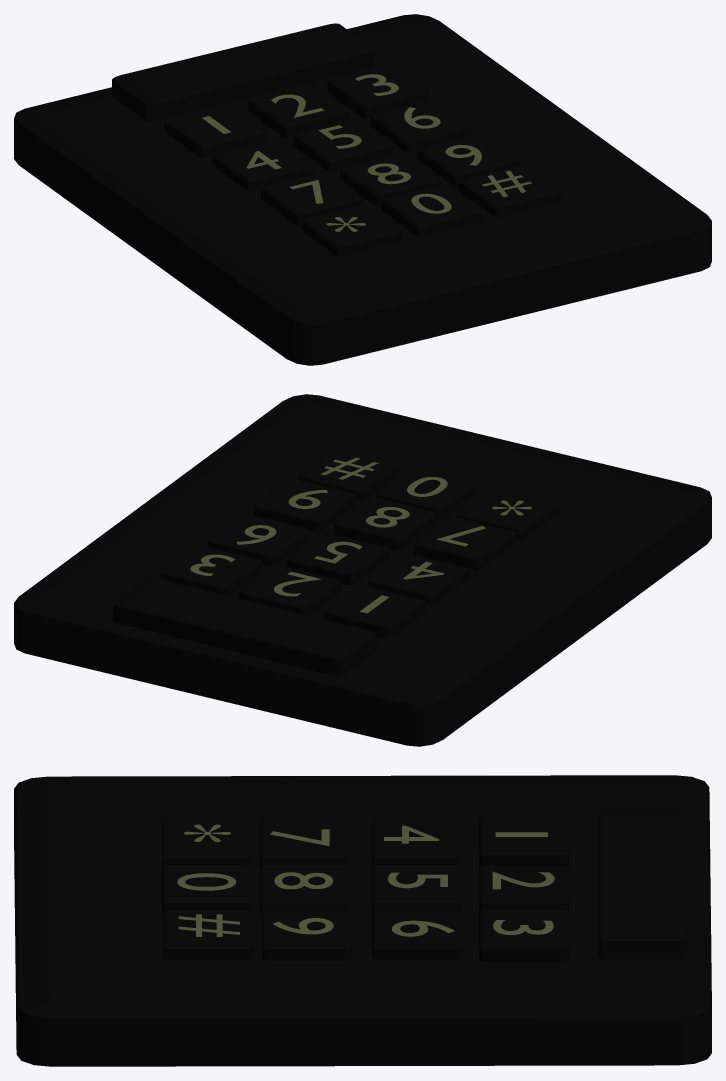
File: Keypad3.fbx
3 views of the same model, one above another, from view 1: azimuth 30°, elevation 25°; view 2: azimuth 150°, elevation 25°; view 3: azimuth 270°, elevation 25° (orthographic). The views are drawn at different scales.
Parts seen in each view (by area): view 1: Cube, Cube.013, Cube.001, Cube.010, Cube.003, Cube.005, Cube.011, Cube.012, Cube.002, Cube.004, Cube.006, Cube.007 (+2 smaller); view 2: Cube, Cube.013, Cube.007, Cube.001, Cube.009, Cube.008, Cube.005, Cube.003, Cube.002, Cube.004, Cube.006, Cube.010 (+2 smaller); view 3: Cube, Cube.013, Cube.003, Cube.001, Cube.009, Cube.006, Cube.012, Cube.010, Cube.007, Cube.008, Cube.004, Cube.005 (+9 smaller).
Part boxes in pixels (x1=…): Cube: x1=14, y1=14, x2=711, y2=365; Cube.013: x1=112, y1=23, x2=374, y2=121; Cube.001: x1=164, y1=104, x2=265, y2=157; Cube.010: x1=300, y1=204, x2=401, y2=256; Cube.003: x1=327, y1=64, x2=428, y2=118; Cube.005: x1=292, y1=118, x2=393, y2=171; Cube.011: x1=381, y1=184, x2=482, y2=236; Cube.012: x1=459, y1=164, x2=560, y2=217; Cube.002: x1=248, y1=84, x2=349, y2=137; Cube.004: x1=211, y1=139, x2=312, y2=191; Cube.006: x1=370, y1=100, x2=471, y2=152; Cube.007: x1=260, y1=172, x2=361, y2=225; Cube: x1=14, y1=394, x2=711, y2=746; Cube.013: x1=113, y1=578, x2=376, y2=676; Cube.007: x1=414, y1=516, x2=515, y2=569; Cube.001: x1=323, y1=585, x2=424, y2=638; Cube.009: x1=254, y1=478, x2=355, y2=531; Cube.008: x1=334, y1=497, x2=435, y2=550; Cube.005: x1=286, y1=532, x2=388, y2=585; Cube.003: x1=160, y1=545, x2=261, y2=595; Cube.002: x1=239, y1=565, x2=340, y2=615; Cube.004: x1=368, y1=553, x2=469, y2=604; Cube.006: x1=208, y1=513, x2=309, y2=566; Cube.010: x1=457, y1=487, x2=558, y2=539; Cube: x1=14, y1=775, x2=711, y2=1066; Cube.013: x1=598, y1=809, x2=687, y2=959; Cube.003: x1=479, y1=910, x2=568, y2=961; Cube.001: x1=479, y1=816, x2=568, y2=866; Cube.009: x1=262, y1=910, x2=351, y2=960; Cube.006: x1=372, y1=910, x2=461, y2=959; Cube.012: x1=163, y1=910, x2=252, y2=959; Cube.010: x1=162, y1=819, x2=251, y2=866; Cube.007: x1=259, y1=819, x2=349, y2=867; Cube.008: x1=259, y1=864, x2=349, y2=914; Cube.004: x1=371, y1=819, x2=460, y2=866; Cube.005: x1=371, y1=865, x2=460, y2=912.
Size of the model in its own units: 551 by 78.47 by 667.
